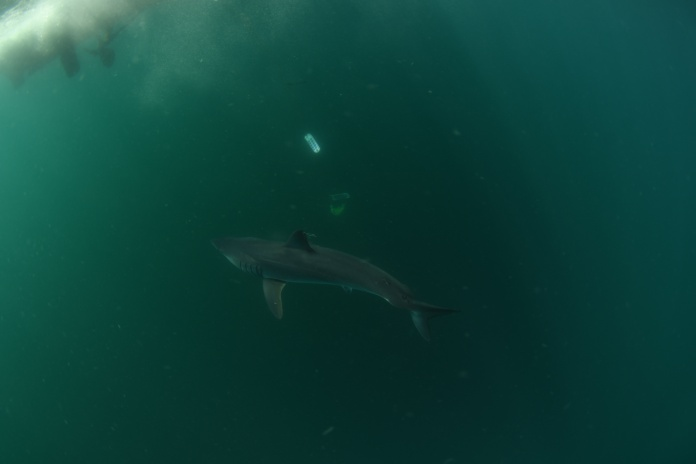Mako: (175, 220, 480, 355)
